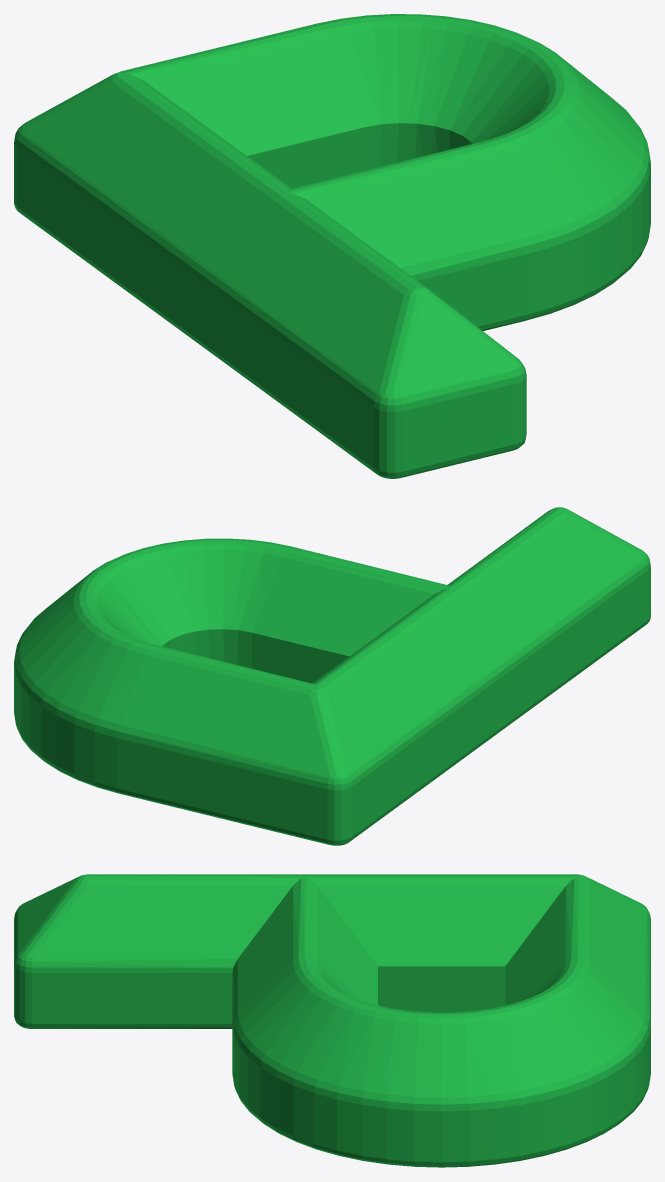
3 renders of one model, top to bottom at view 1: azimuth 30°, elevation 25°; view 2: azimuth 150°, elevation 25°; view 3: azimuth 270°, elevation 25°, orthographic. The views are drawn at different scales.
Size of the model in its own units: 0.0145 by 0.00422 by 0.0195.
